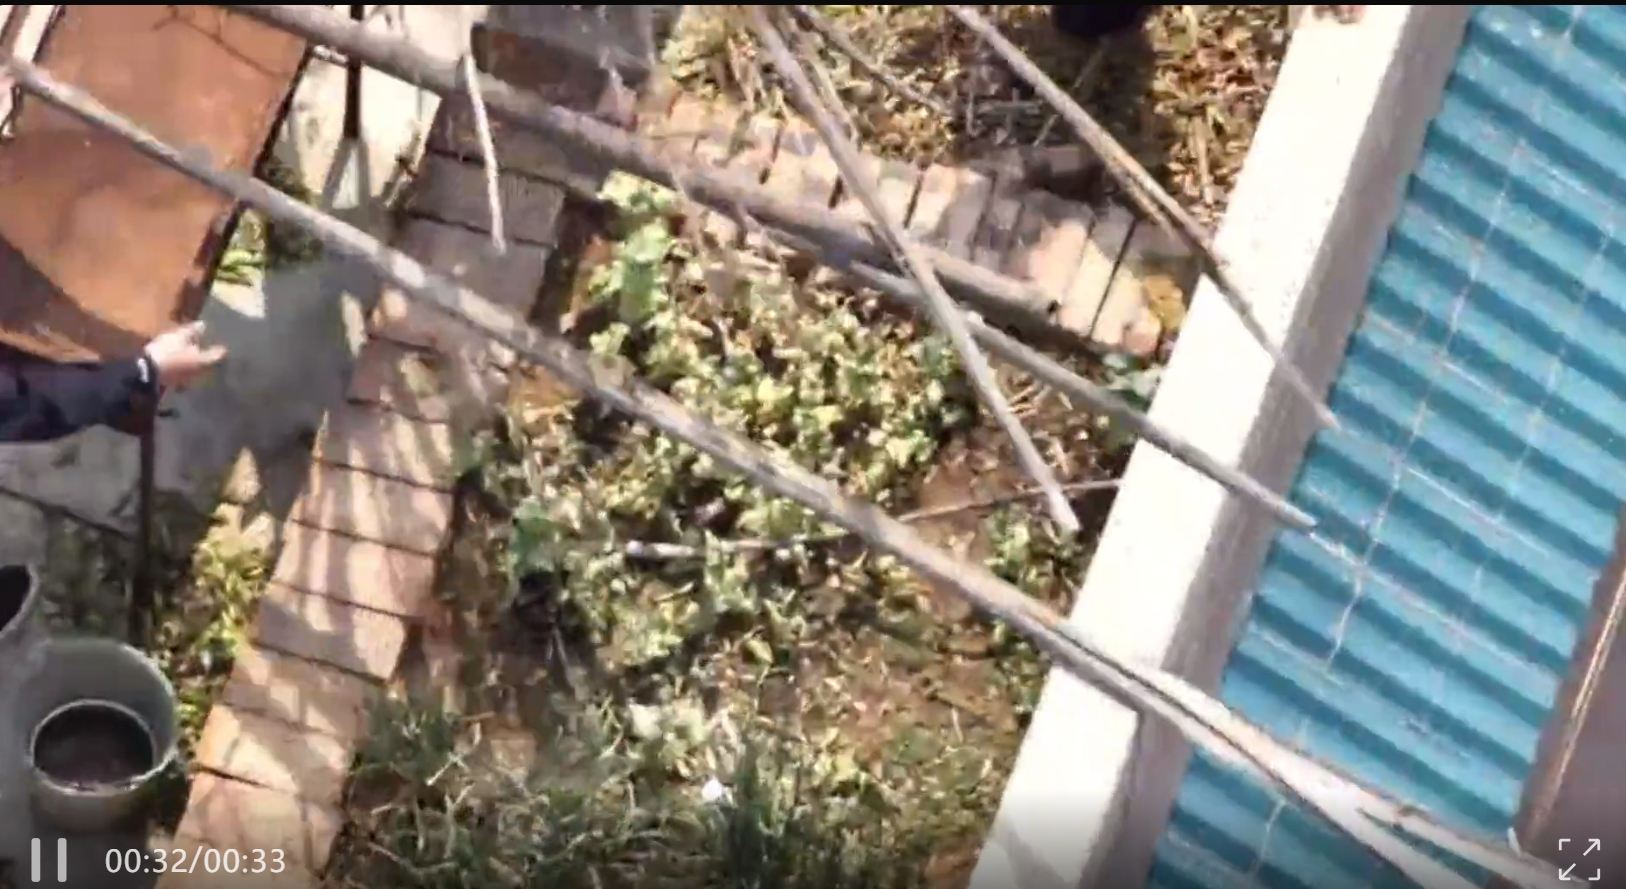Poppy: (471, 213, 968, 666)
